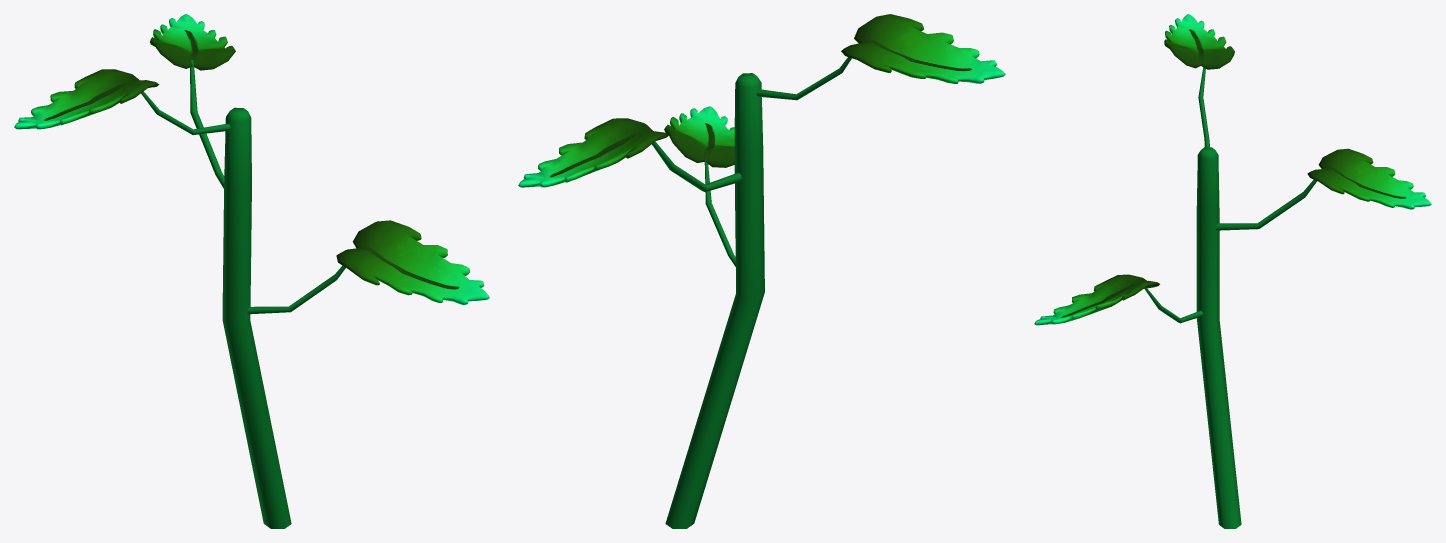
The model's file is Veg_tomato_S.fbx.
The picture shows the model from 3 angles, left to right: view 1: azimuth 30°, elevation 25°; view 2: azimuth 150°, elevation 25°; view 3: azimuth 270°, elevation 25°; orthographic projection. The views are drawn at different scales.
Parts seen in each view (by area): view 1: Cylinder.001; view 2: Cylinder.001; view 3: Cylinder.001.
Part boxes in pixels (left/top/right/bottom): Cylinder.001: left=14, top=14, right=489, bottom=528; Cylinder.001: left=518, top=14, right=1005, bottom=528; Cylinder.001: left=1034, top=14, right=1431, bottom=528.
Bounding box in the file's own units: 25.73 × 23.51 × 29.44.
